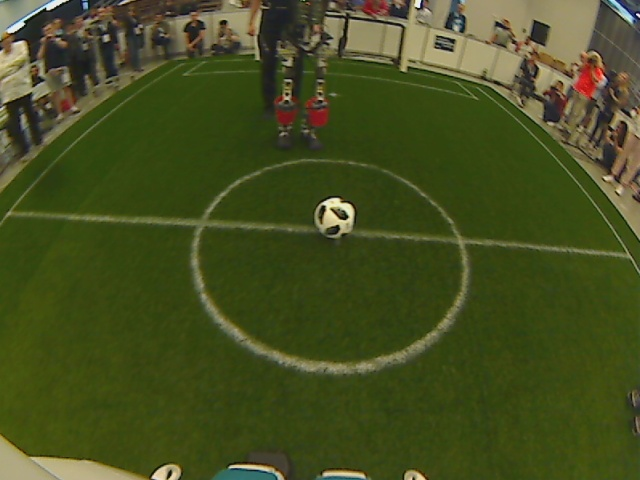ball: (310, 195, 360, 243)
